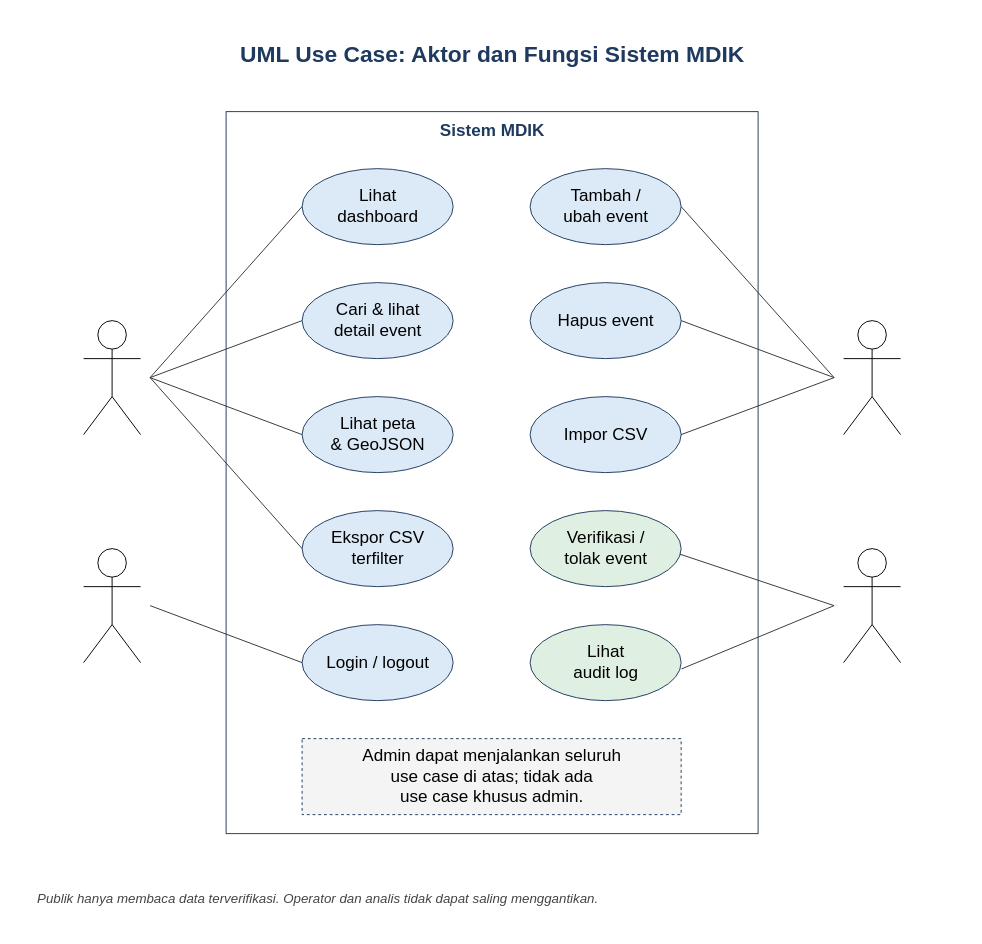
Image size: 982x944. Some labels were removed from this diagram. The centre of each missing label's shape, as x and y in pixels:
Admin: the point at 112,605
Analis: the point at 872,605
Operator: the point at 872,377
Publik: the point at 112,377
